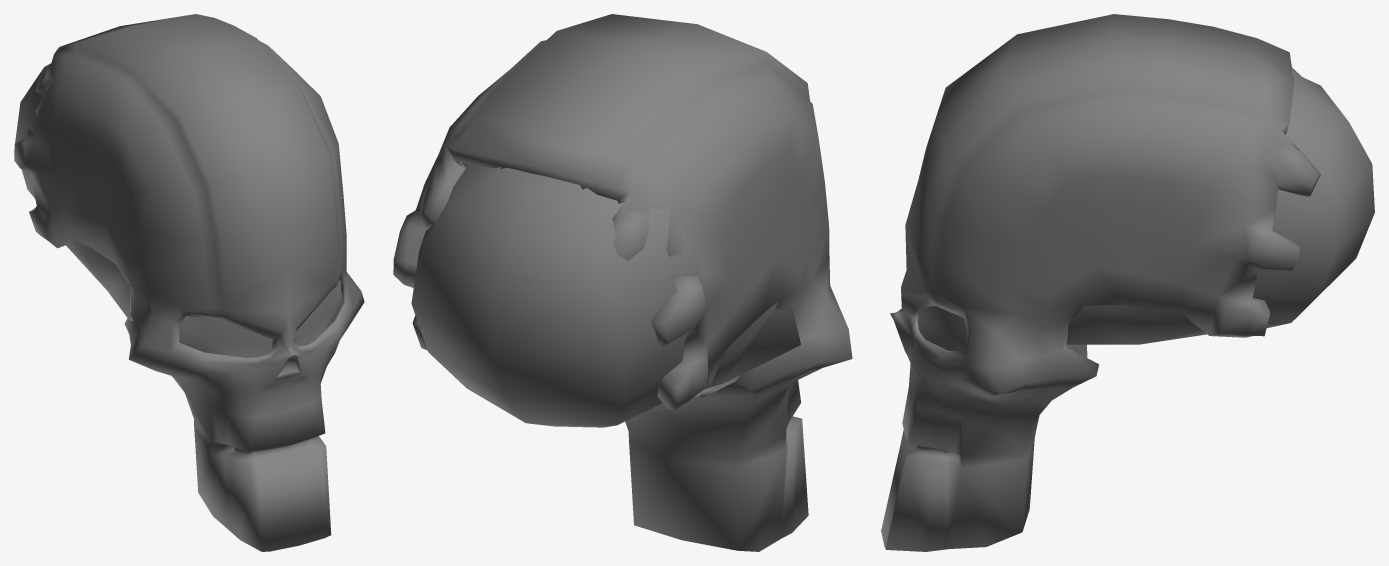
The model's file is Cron_head.glb.
3 renders of one model, left to right at view 1: azimuth 30°, elevation 25°; view 2: azimuth 150°, elevation 25°; view 3: azimuth 270°, elevation 25°, orthographic. The views are drawn at different scales.
Visible parts, largest first — view 1: node_id3; view 2: node_id3; view 3: node_id3.
Part boxes in pixels (x1=…): node_id3: x1=14, y1=14, x2=364, y2=551; node_id3: x1=393, y1=14, x2=852, y2=551; node_id3: x1=881, y1=14, x2=1374, y2=551.
Size of the model in its own units: 0.299 by 0.512 by 0.4699.
1 material, 1 textured.
